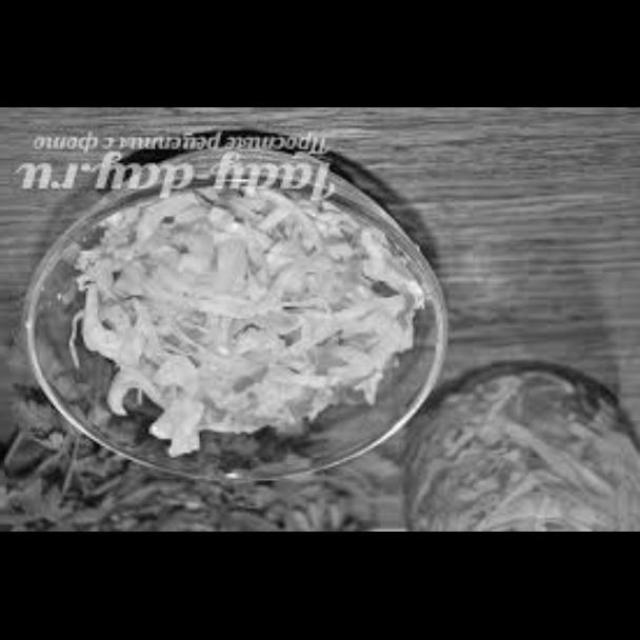ca rot: (225, 360, 278, 400), (307, 335, 348, 385), (217, 413, 278, 440), (284, 393, 322, 426), (392, 285, 416, 330), (56, 278, 83, 318)
cabbage: (49, 192, 420, 456), (387, 366, 640, 533)
